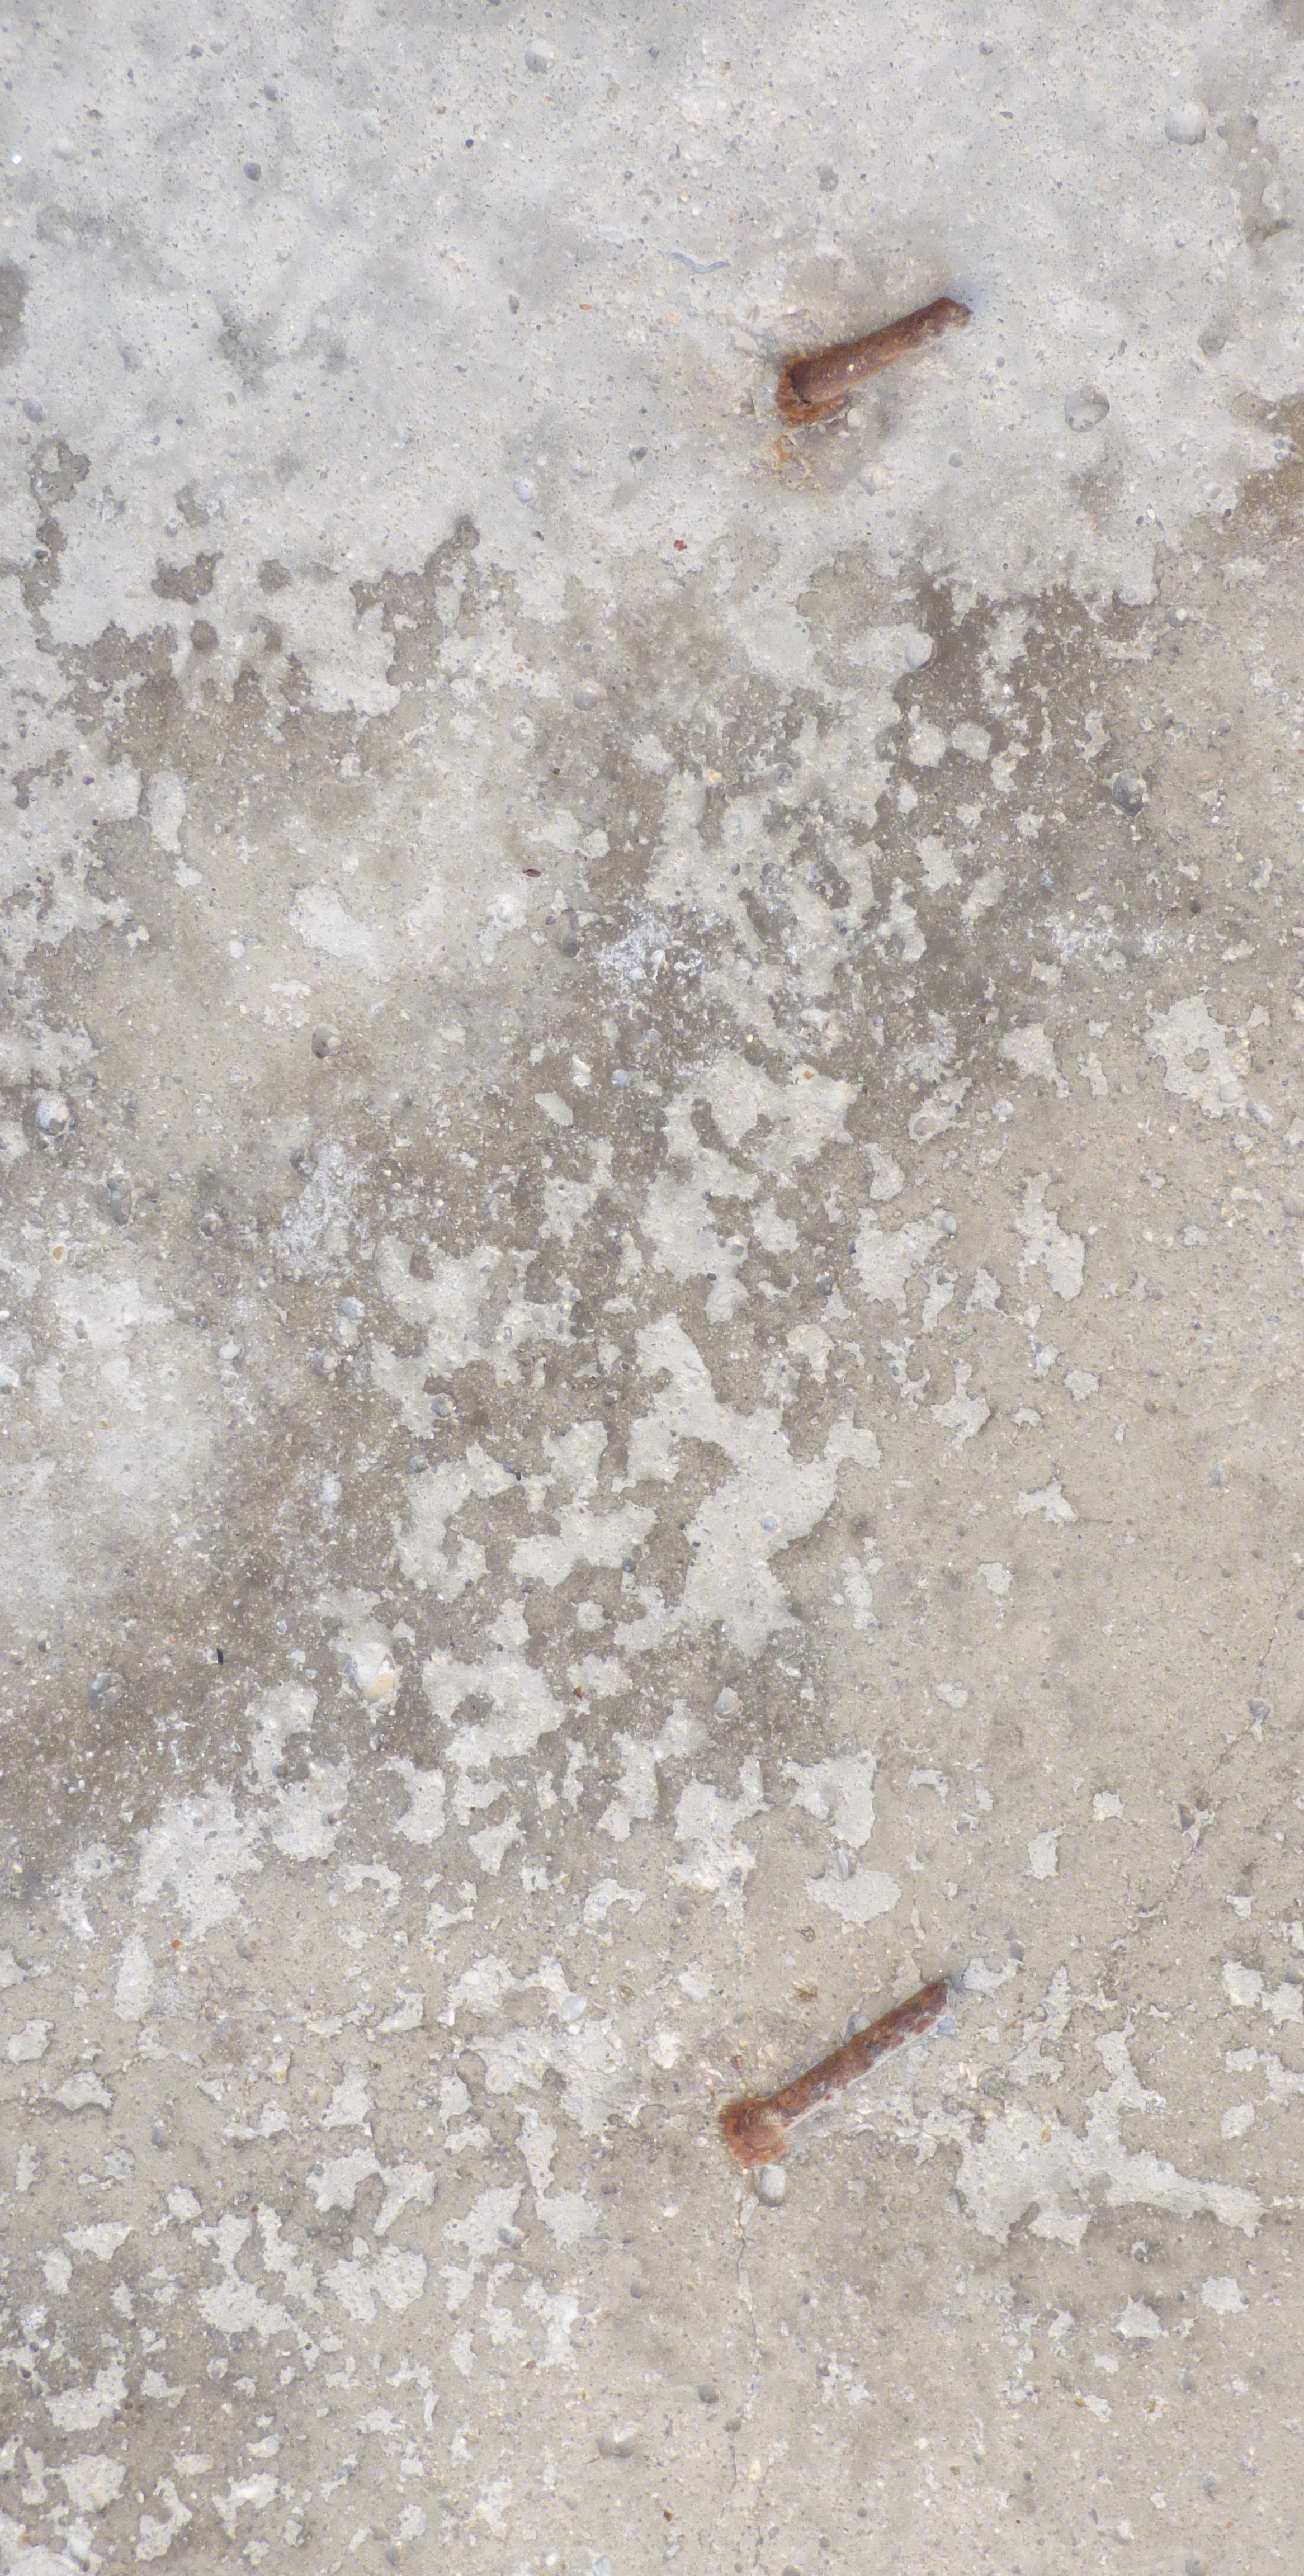Corrosion: (775, 356, 845, 424), (725, 2100, 787, 2167)
Exposed reinforcement: (738, 1977, 953, 2150), (790, 296, 973, 404)
